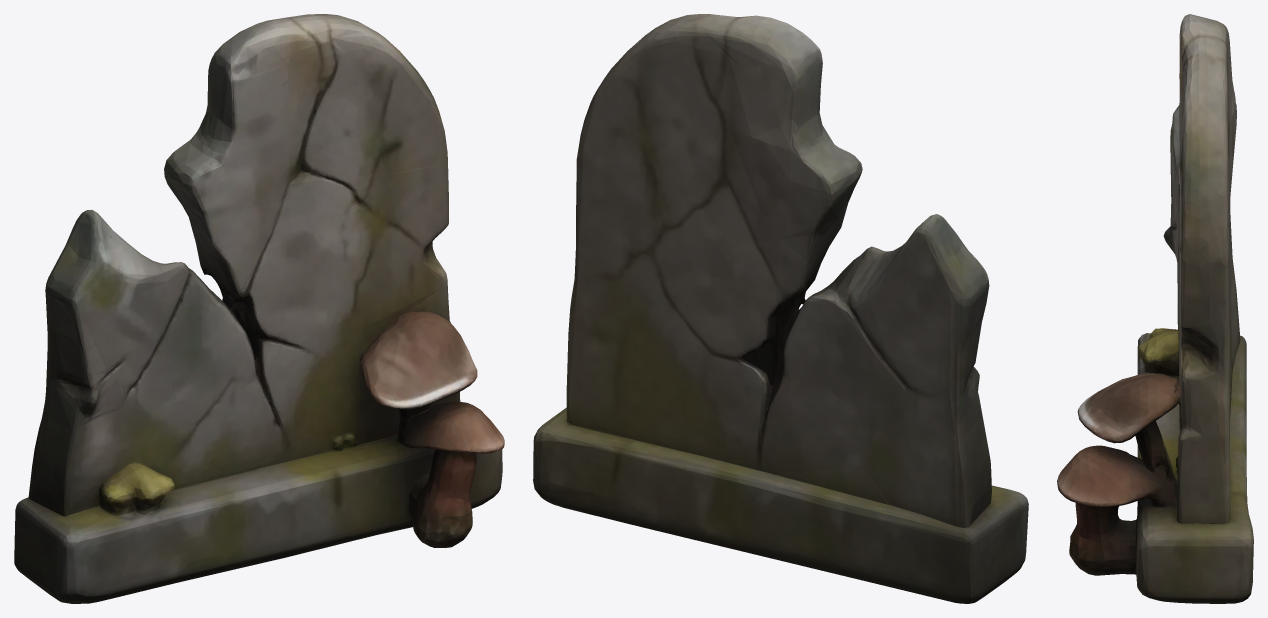
The model's file is tombstone_broken.glb.
The picture shows the model from 3 angles, left to right: view 1: azimuth 30°, elevation 25°; view 2: azimuth 150°, elevation 25°; view 3: azimuth 270°, elevation 25°; orthographic projection. The views are drawn at different scales.
Parts seen in each view (by area): view 1: geometry_0; view 2: geometry_0; view 3: geometry_0.
Boxes of the visible parts, x1=… form: geometry_0: x1=14, y1=14, x2=504, y2=603; geometry_0: x1=533, y1=14, x2=1028, y2=603; geometry_0: x1=1057, y1=14, x2=1253, y2=603.
Size of the model in its own units: 0.898 by 0.9991 by 0.3596.
1 material, 1 textured.
